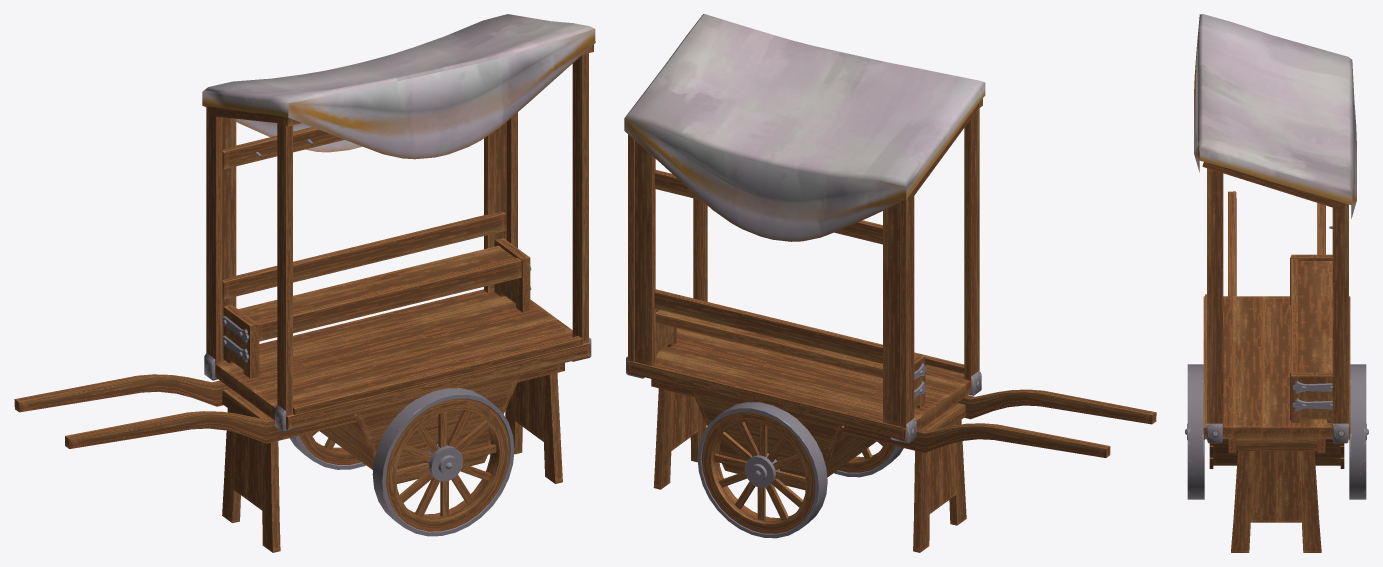
File: Stall_Cart_Empty.gltf
3 renders of one model, left to right at view 1: azimuth 30°, elevation 25°; view 2: azimuth 150°, elevation 25°; view 3: azimuth 270°, elevation 25°, orthographic. The views are drawn at different scales.
Parts seen in each view (by area): view 1: Stall_Cart_Empty; view 2: Stall_Cart_Empty; view 3: Stall_Cart_Empty.
Part boxes in pixels (left/top/right/bottom): Stall_Cart_Empty: left=14, top=14, right=595, bottom=552; Stall_Cart_Empty: left=624, top=14, right=1156, bottom=552; Stall_Cart_Empty: left=1185, top=14, right=1368, bottom=552.
Size of the model in its own units: 3.02 by 2.63 by 1.06.
3 materials, 3 textured.
